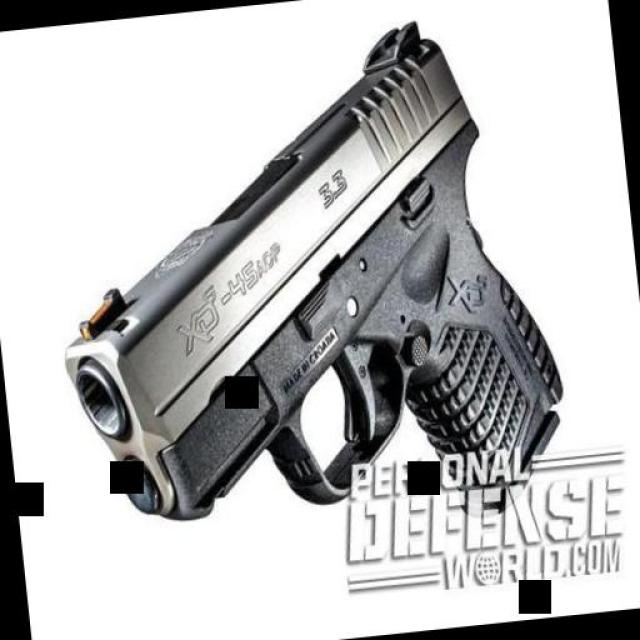gun: (32, 6, 584, 549)
